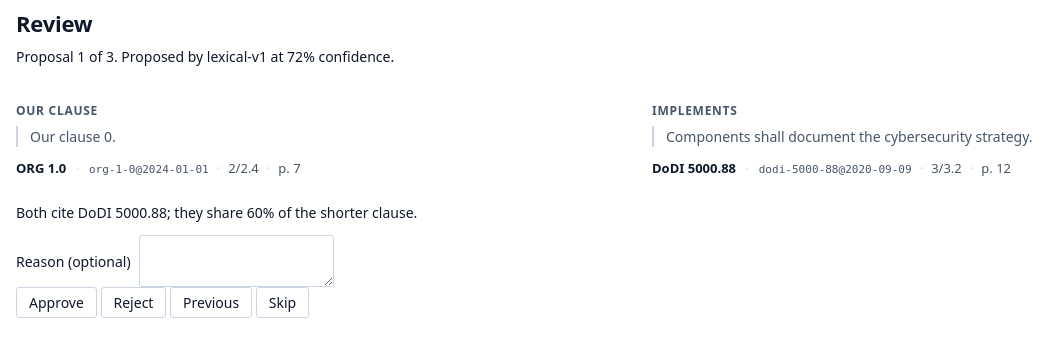
Test: Review — working through the queue › skips to the next proposal without recording anything
Expected: the text "Our clause 0." is shown, [16,126,560,146]
Click the button "Skip": (282, 303) [256,287,309,318]
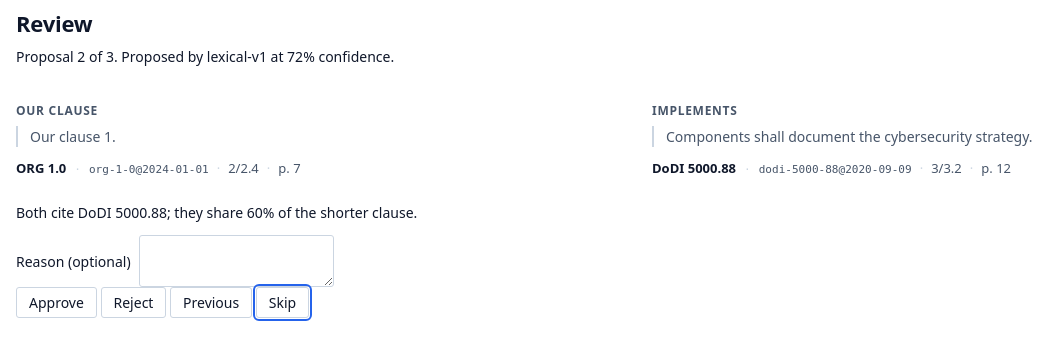
Expected: the text "Our clause 1." is shown, [16,126,560,146]
Expected: the text "Proposal 2 of 3. Proposed by lexical-v1 at 72% confidence." is shown, [16,46,394,66]
